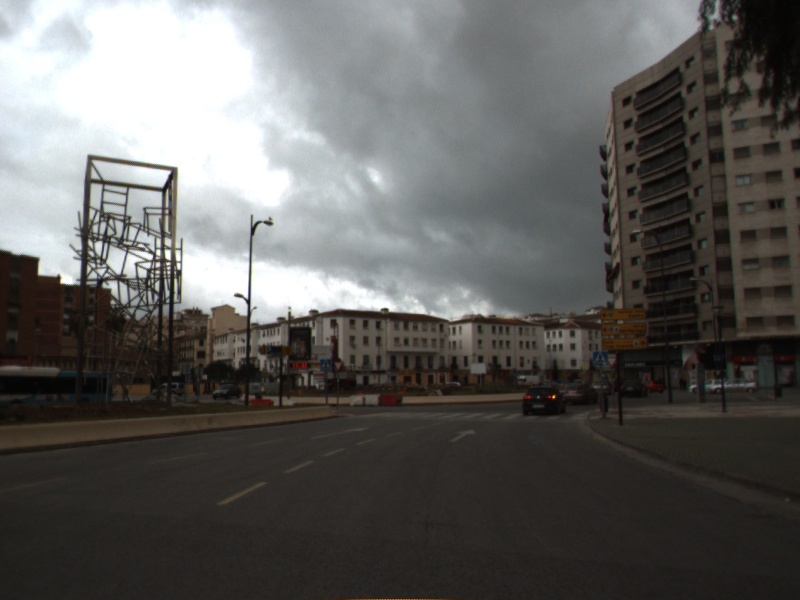STRAIGHT: (307, 425, 371, 441), (447, 427, 479, 444)
